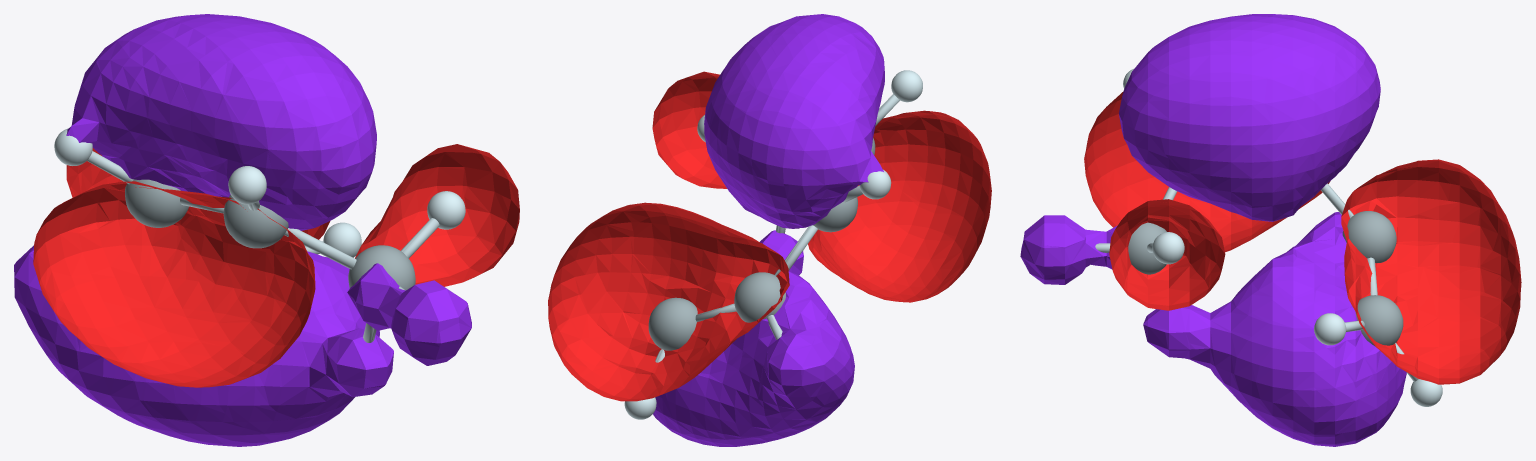
3 renders of one model, left to right at view 1: azimuth 30°, elevation 25°; view 2: azimuth 150°, elevation 25°; view 3: azimuth 270°, elevation 25°, orthographic. The views are drawn at different scales.
Visible parts, largest first — view 1: Renderer Node; view 2: Renderer Node; view 3: Renderer Node.
Boxes of the visible parts, bbox=[...] form: Renderer Node: bbox=[14, 14, 519, 446]; Renderer Node: bbox=[548, 14, 991, 446]; Renderer Node: bbox=[1020, 14, 1521, 446].
Size of the model in its own units: 4.95 by 5.25 by 6.19.
